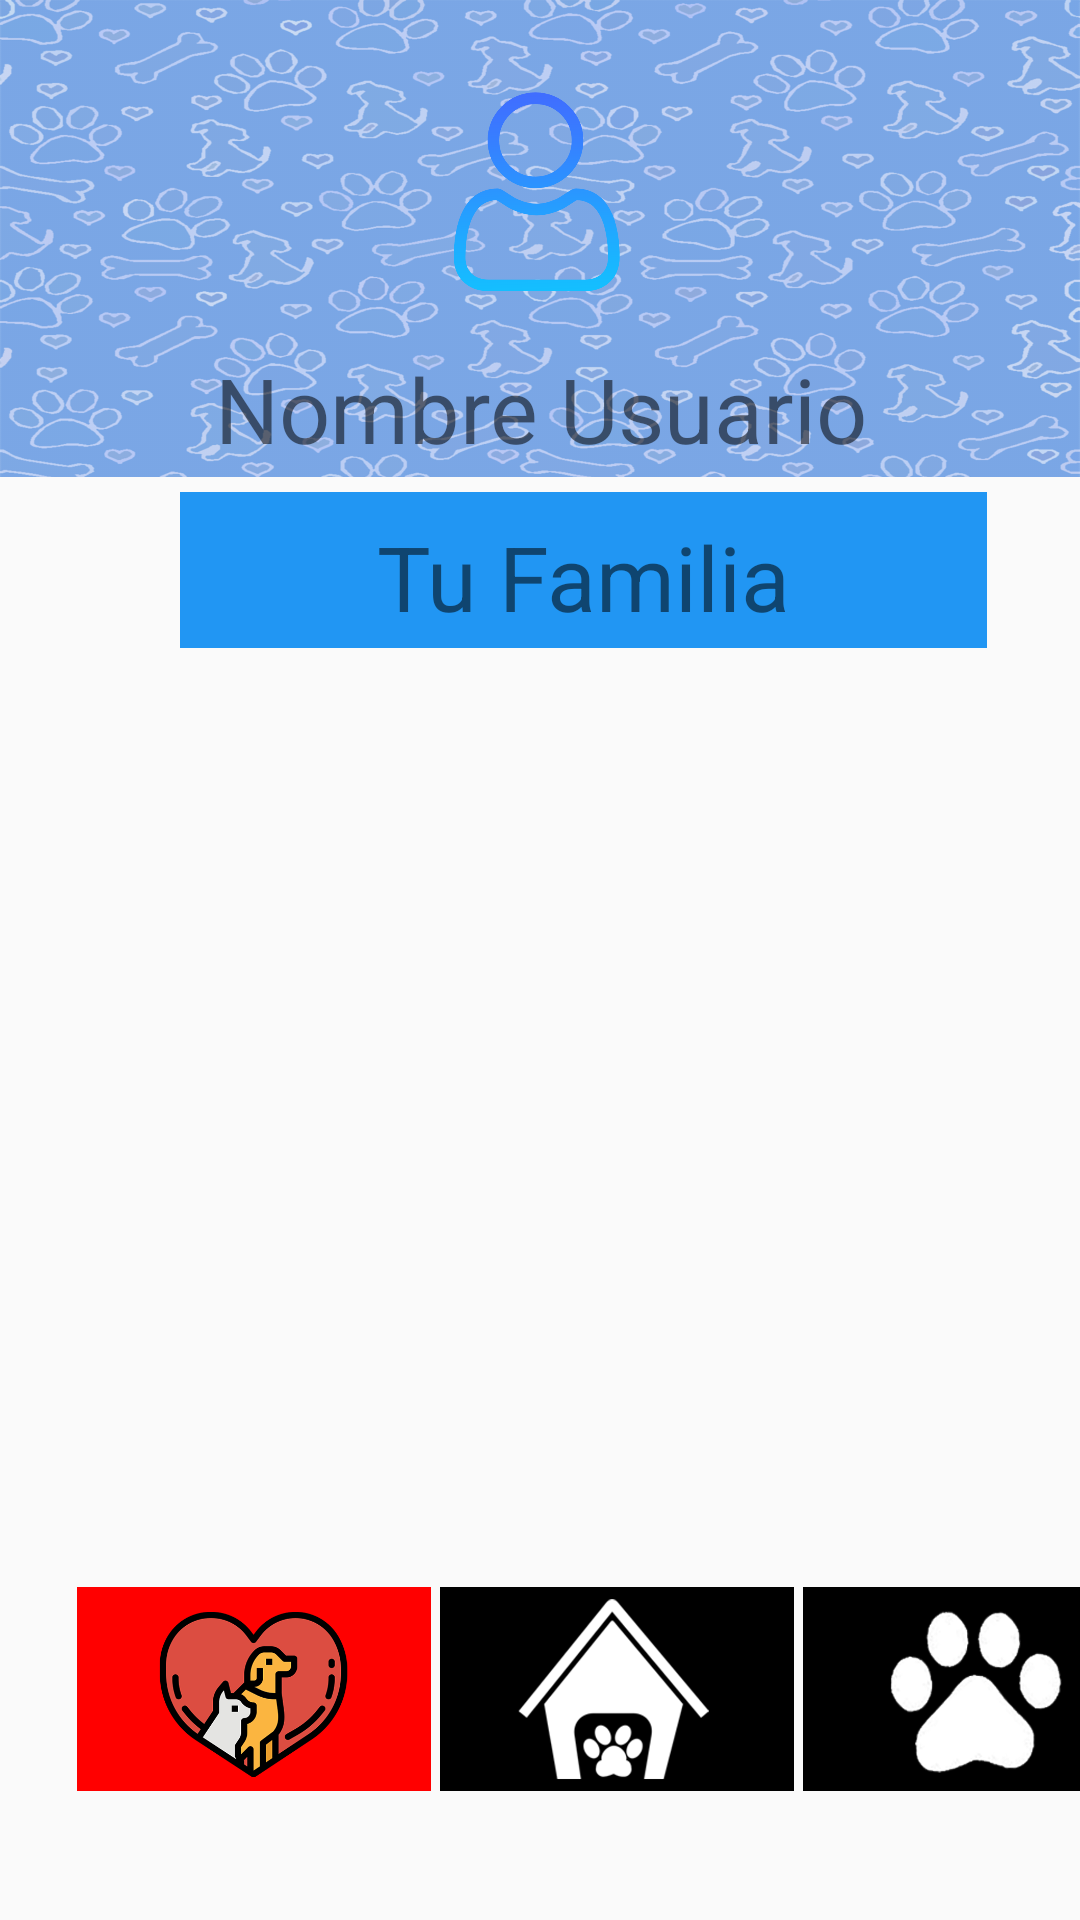

Icons on this 1080 × 1920 Android screen, each with its box as (x1, y1, x2, y2):
home: (440, 1587, 794, 1791)
